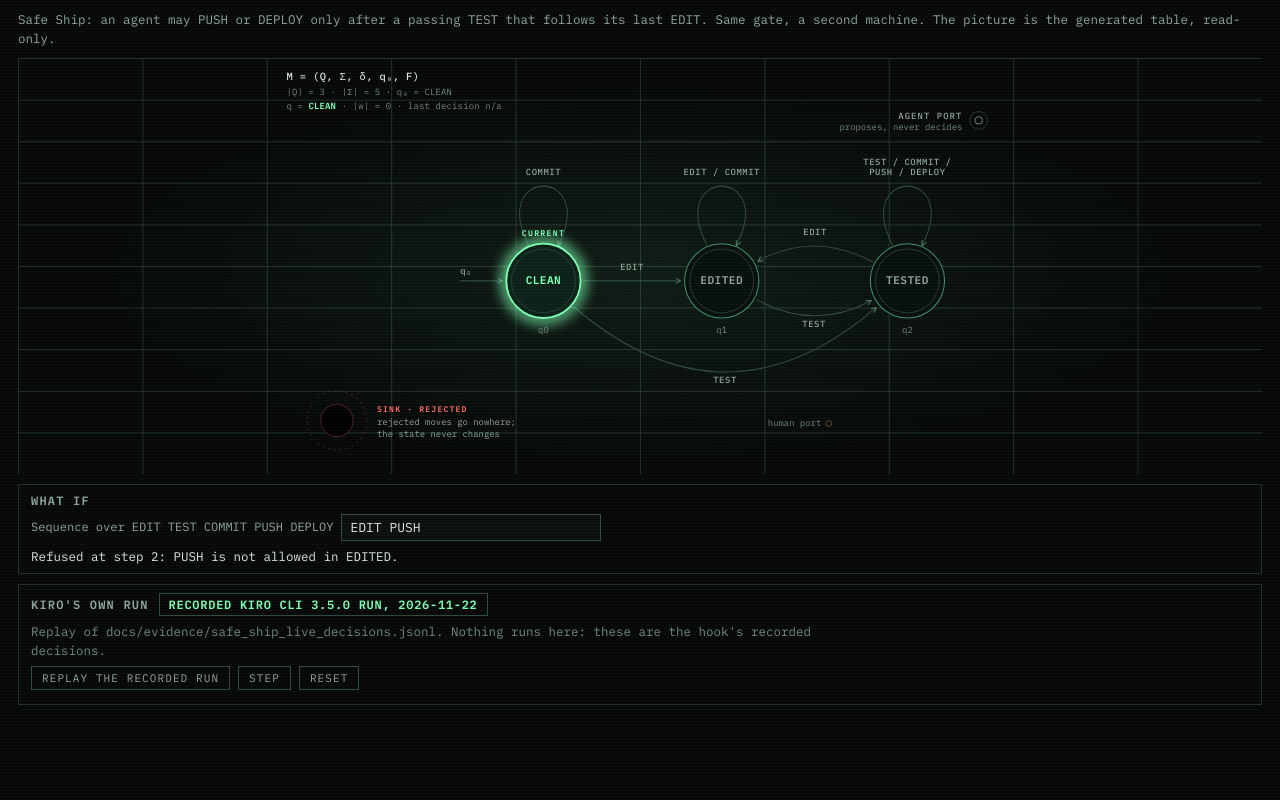
Scenario: Safe Ship view (C7) › replays Kiro's refused push from the recording
Click the button "Step": coordinates (264, 678) x1=238 y1=666 x2=291 y2=690
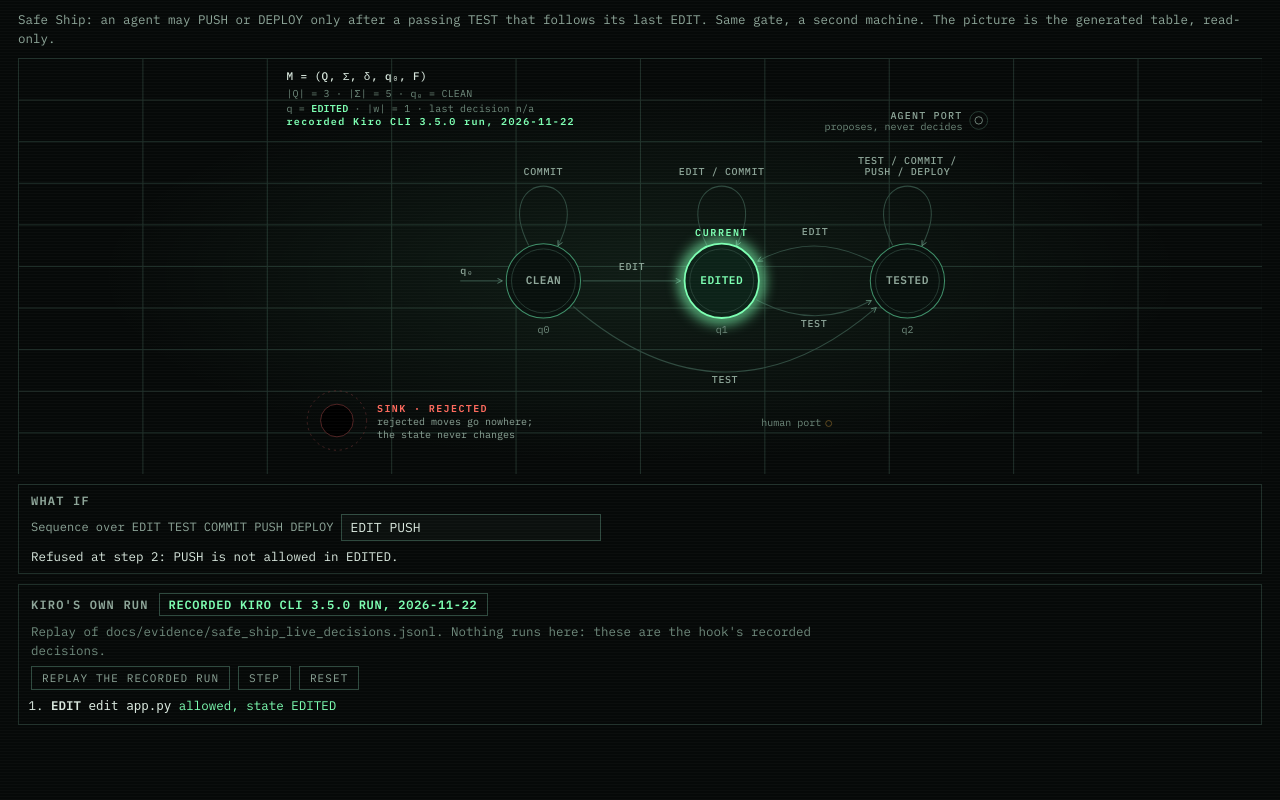
Click the button "Step": coordinates (264, 678) x1=238 y1=666 x2=291 y2=690
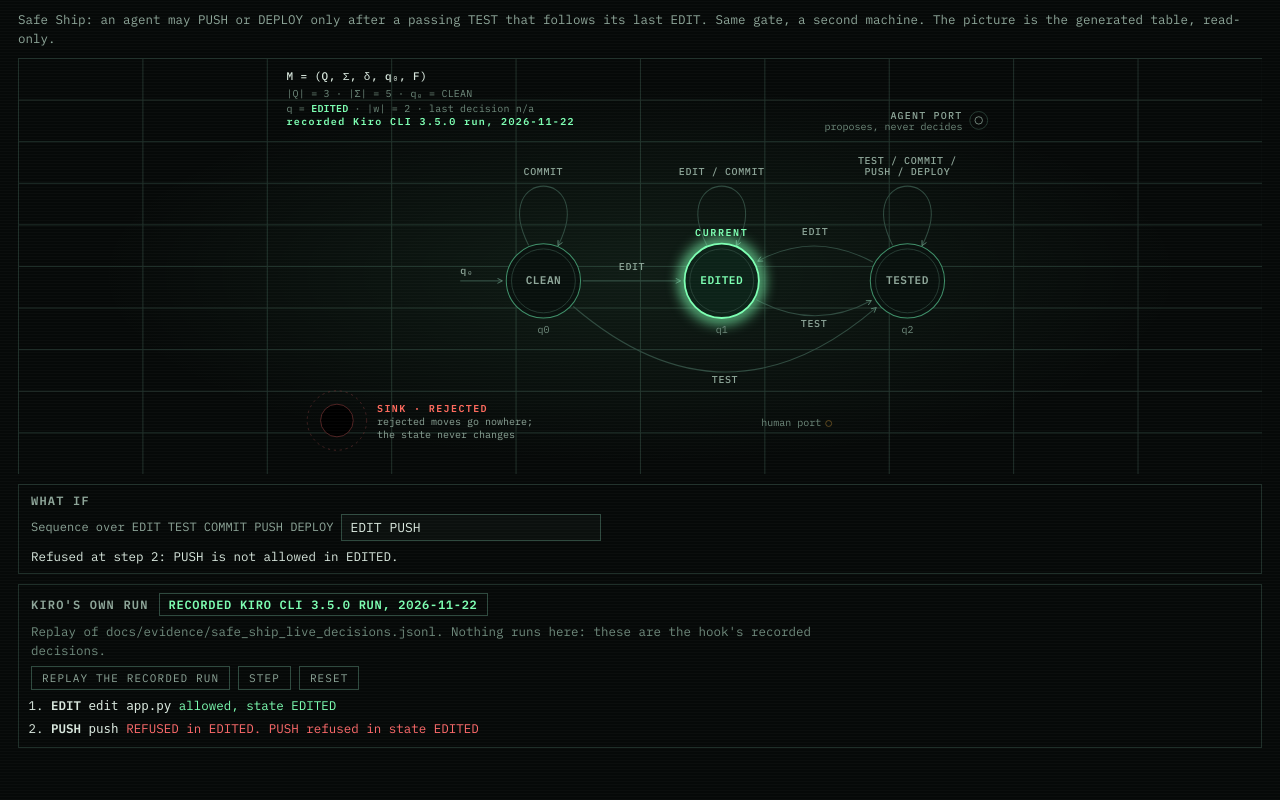
Result: the number of list items is 2 at x1=51 y1=697 x2=336 y2=713; x1=51 y1=720 x2=479 y2=736
Result: the list item "PUSH push REFUSED in EDITED. PUSH refused in state EDITED" is shown at x1=51 y1=720 x2=479 y2=736
